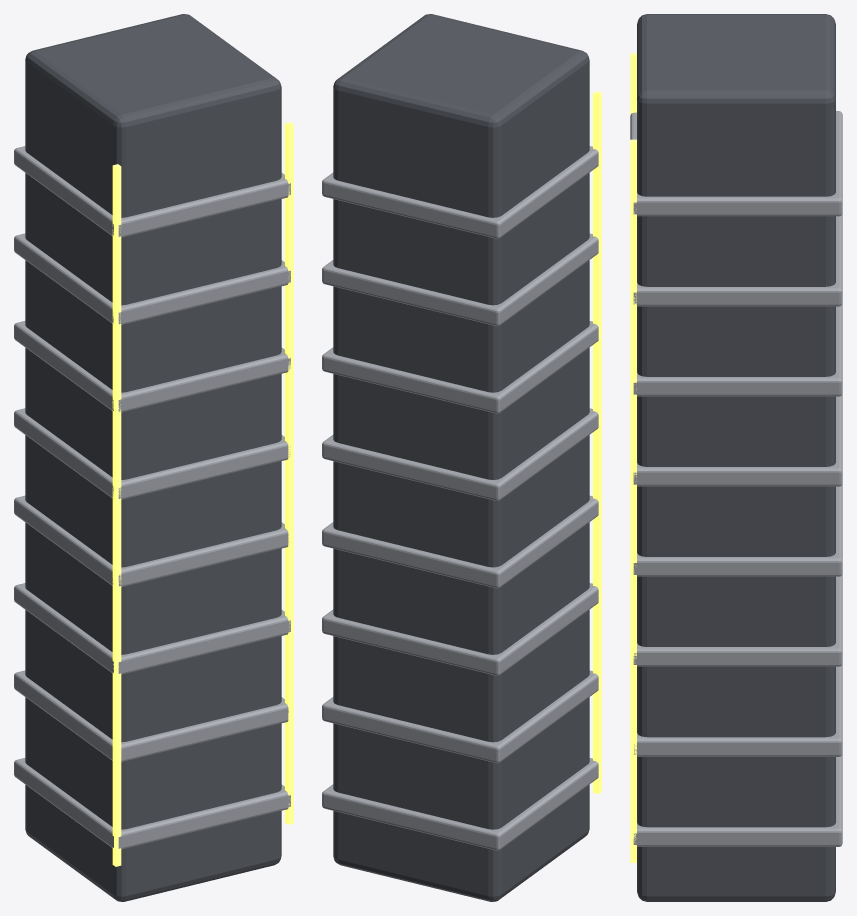
The model's file is pillar_ribbed_support.glb.
The picture shows the model from 3 angles, left to right: view 1: azimuth 30°, elevation 25°; view 2: azimuth 150°, elevation 25°; view 3: azimuth 270°, elevation 25°; orthographic projection. The views are drawn at different scales.
Parts seen in each view (by area): view 1: GD_pillar_ribbed_support__m0, GD_pillar_ribbed_support__m1, GD_pillar_ribbed_support__m2; view 2: GD_pillar_ribbed_support__m0, GD_pillar_ribbed_support__m1, GD_pillar_ribbed_support__m2; view 3: GD_pillar_ribbed_support__m0, GD_pillar_ribbed_support__m1, GD_pillar_ribbed_support__m2.
Part boxes in pixels (x1=…): GD_pillar_ribbed_support__m0: x1=25, y1=14, x2=281, y2=901; GD_pillar_ribbed_support__m1: x1=14, y1=146, x2=290, y2=849; GD_pillar_ribbed_support__m2: x1=112, y1=122, x2=293, y2=866; GD_pillar_ribbed_support__m0: x1=333, y1=14, x2=589, y2=901; GD_pillar_ribbed_support__m1: x1=322, y1=146, x2=598, y2=850; GD_pillar_ribbed_support__m2: x1=593, y1=91, x2=601, y2=793; GD_pillar_ribbed_support__m0: x1=637, y1=14, x2=835, y2=901; GD_pillar_ribbed_support__m1: x1=630, y1=111, x2=842, y2=846; GD_pillar_ribbed_support__m2: x1=630, y1=53, x2=636, y2=862.
Bounding box in the file's own units: 0.64 × 2.7 × 0.64.
